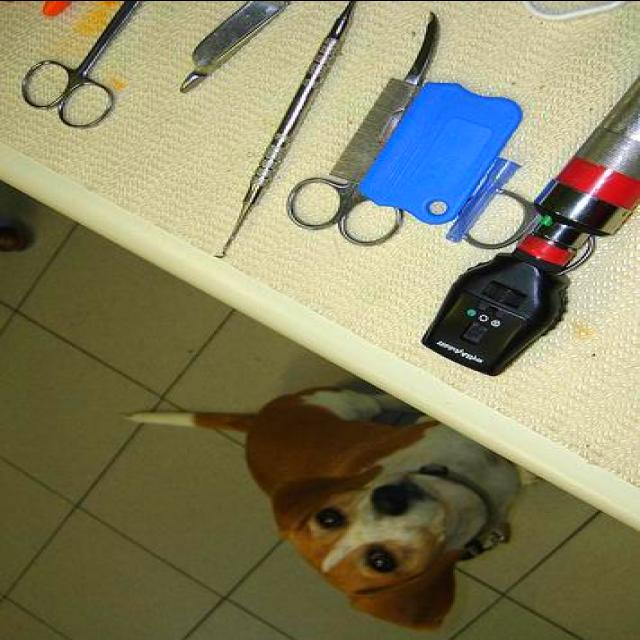beagle: (119, 384, 543, 630)
